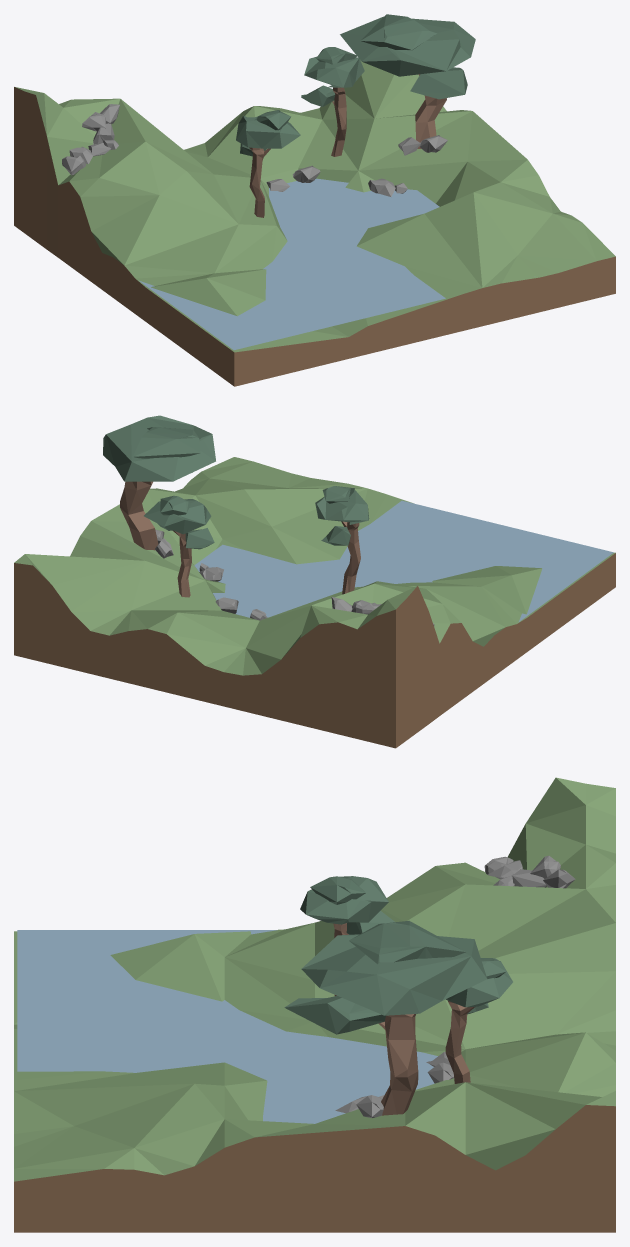
The model's file is modular landscape.fbx.
The picture shows the model from 3 angles, top to bottom: view 1: azimuth 30°, elevation 25°; view 2: azimuth 150°, elevation 25°; view 3: azimuth 270°, elevation 25°; orthographic projection. The views are drawn at different scales.
Parts seen in each view (by area): view 1: pPlane6, pPlane7, pCube59 (×3), pCylinder44 (×3), pCube61, pCube60; view 2: pPlane6, pPlane7, pCube59 (×3), pCylinder44 (×3), pCube61 (×2), pCube60; view 3: pPlane6, pPlane7, pCube59 (×3), pCylinder44 (×2), pCube61 (×2), pCube60.
Boxes of the visible parts, x1=… form: pPlane6: x1=14, y1=60, x2=615, y2=386; pPlane7: x1=139, y1=178, x2=445, y2=350; pCube59 (×3): x1=236, y1=16, x2=475, y2=148; pCylinder44 (×3): x1=249, y1=74, x2=446, y2=217; pCube61: x1=360, y1=14, x2=436, y2=50; pCube60: x1=410, y1=67, x2=467, y2=99; pPlane6: x1=14, y1=457, x2=615, y2=748; pPlane7: x1=194, y1=500, x2=613, y2=621; pCube59 (×3): x1=103, y1=415, x2=369, y2=534; pCylinder44 (×3): x1=120, y1=481, x2=360, y2=597; pCube61 (×2): x1=133, y1=427, x2=200, y2=515; pCube60: x1=185, y1=528, x2=214, y2=549; pPlane6: x1=14, y1=777, x2=615, y2=1232; pPlane7: x1=17, y1=930, x2=437, y2=1123; pCube59 (×3): x1=300, y1=876, x2=512, y2=1015; pCylinder44 (×2): x1=378, y1=1000, x2=475, y2=1115; pCube61 (×2): x1=310, y1=876, x2=466, y2=964; pCube60: x1=284, y1=996, x2=385, y2=1034.
Bounding box in the file's own units: 20.84 × 10.08 × 20.83.
